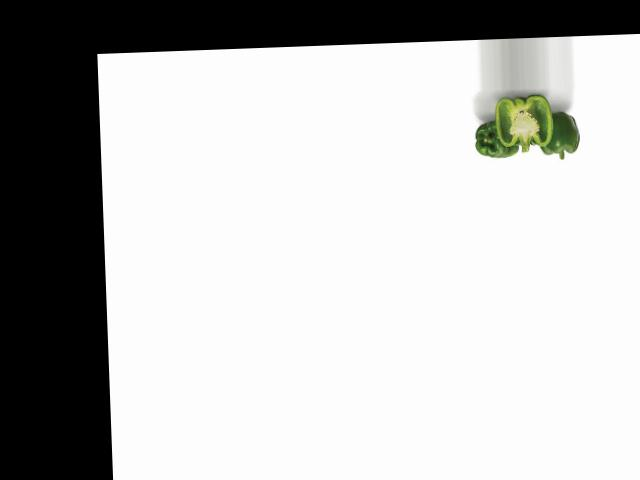bell_pepper: (470, 114, 523, 163)
